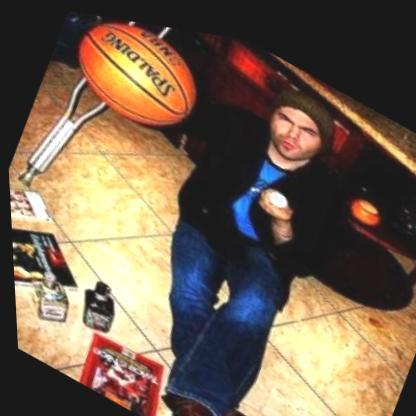basketball: (56, 7, 219, 151)
